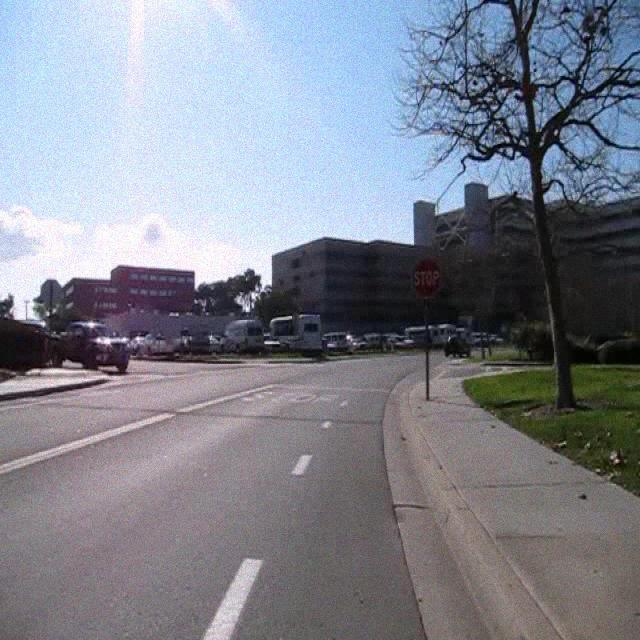stop: (410, 254, 444, 298)
